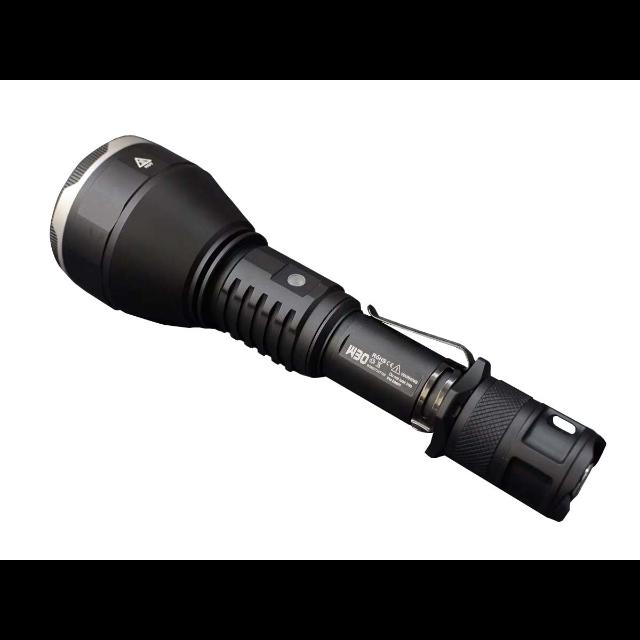Flashlight: (45, 126, 611, 528)
